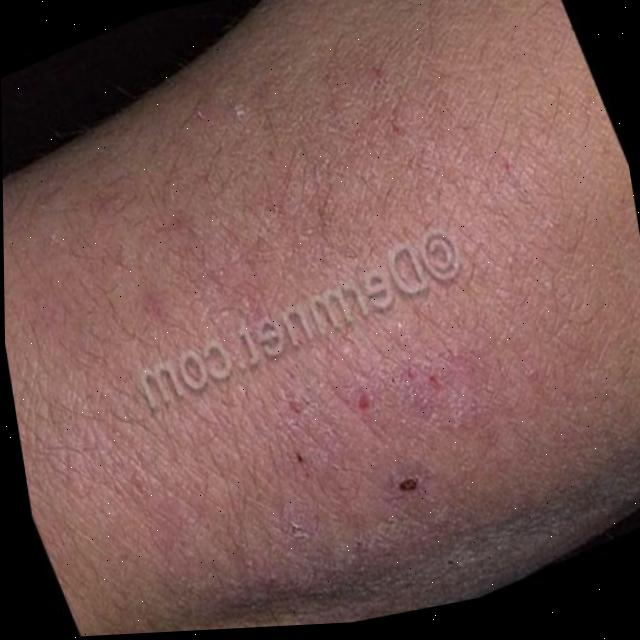Eczema: (102, 76, 511, 530)
